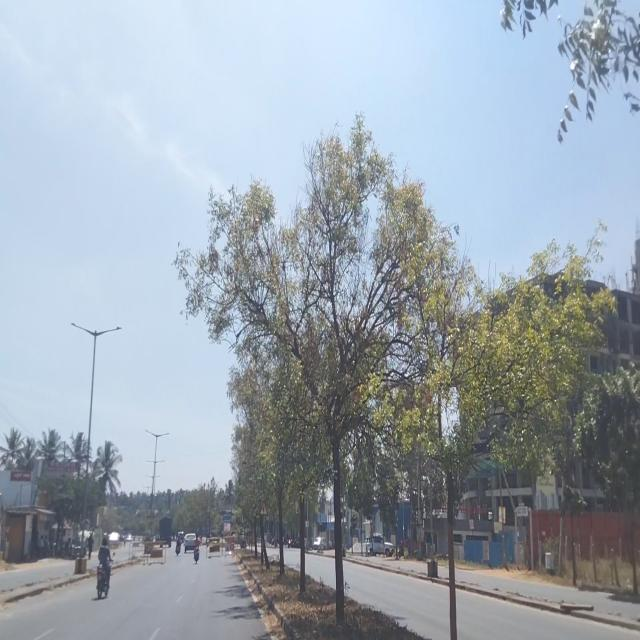bien_cam: (260, 501, 267, 516)
